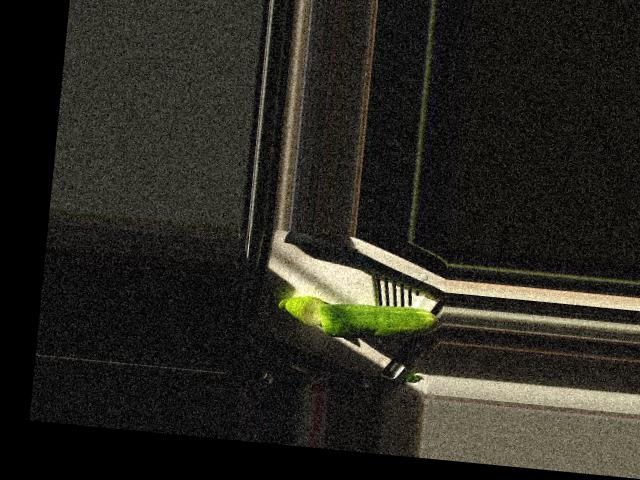cucumber: (316, 298, 439, 346)
